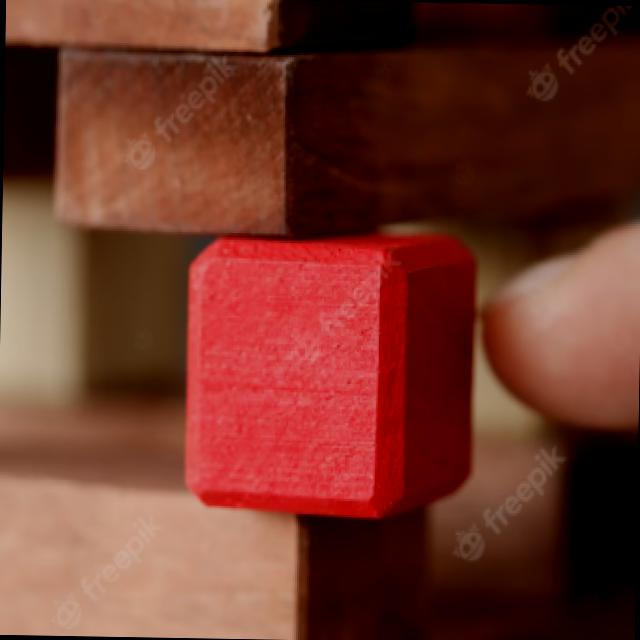red cube: (187, 230, 477, 525)
